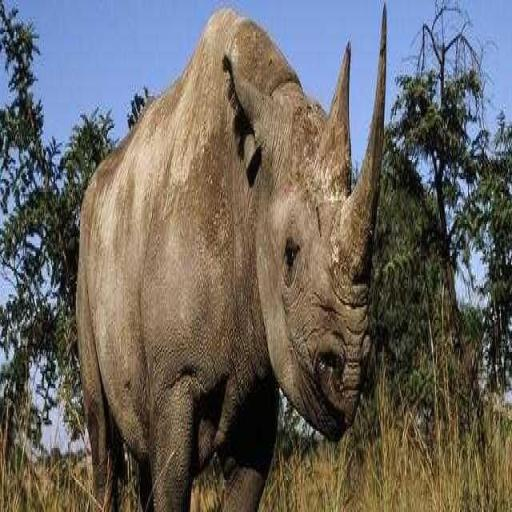Rhino: (74, 4, 388, 510)
